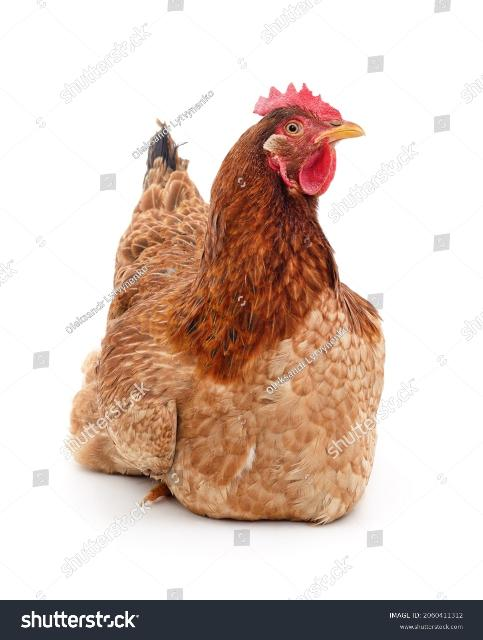Chicken: (68, 80, 387, 525)
